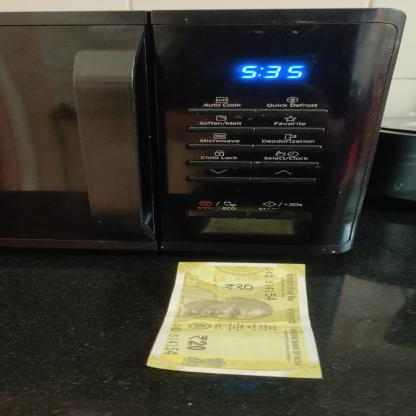New20Front: (144, 261, 330, 379)
